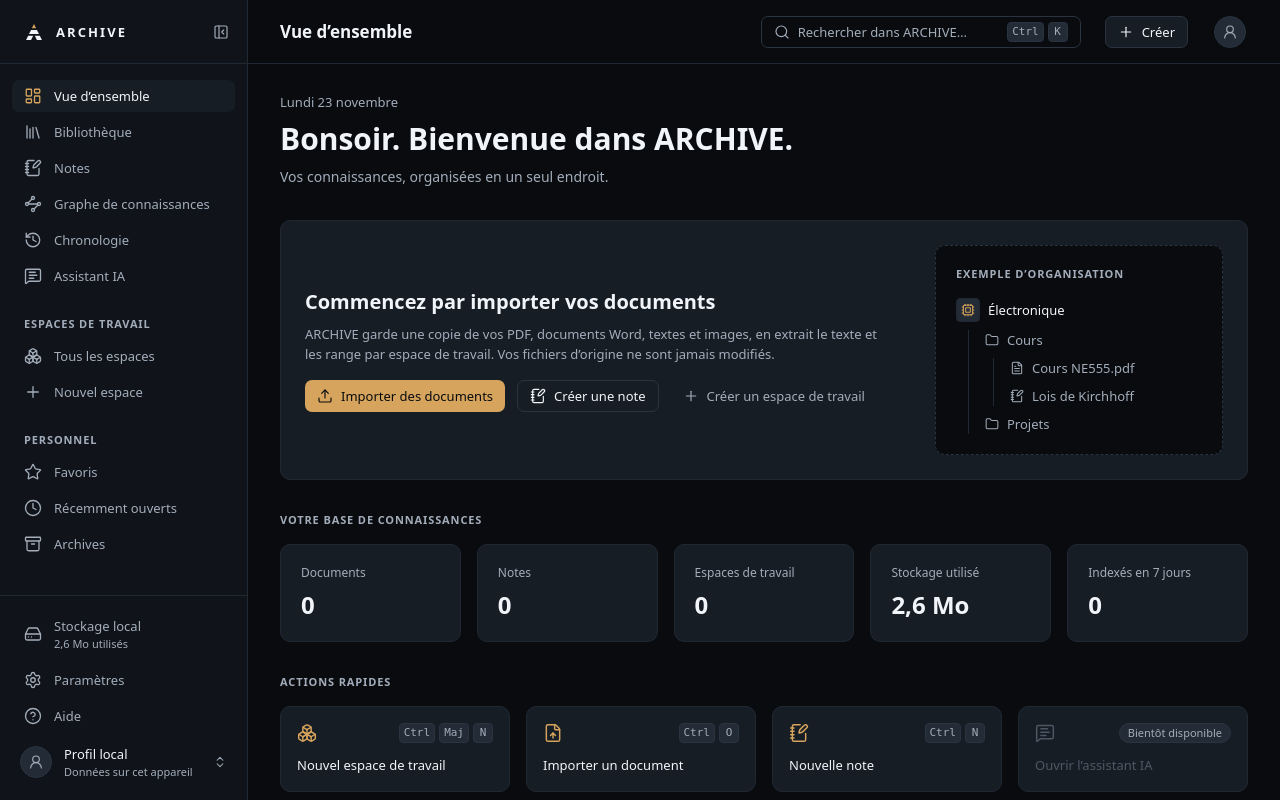
sidebar storage indicator › shows the space really used by ARCHIVE and links to the storage settings
Expected: the text "2,6 Mo utilisés" is shown, [54,636,128,651]
Click the link "Stockage local 2,6 Mo utilisés": [82, 634] box [24,617,141,651]
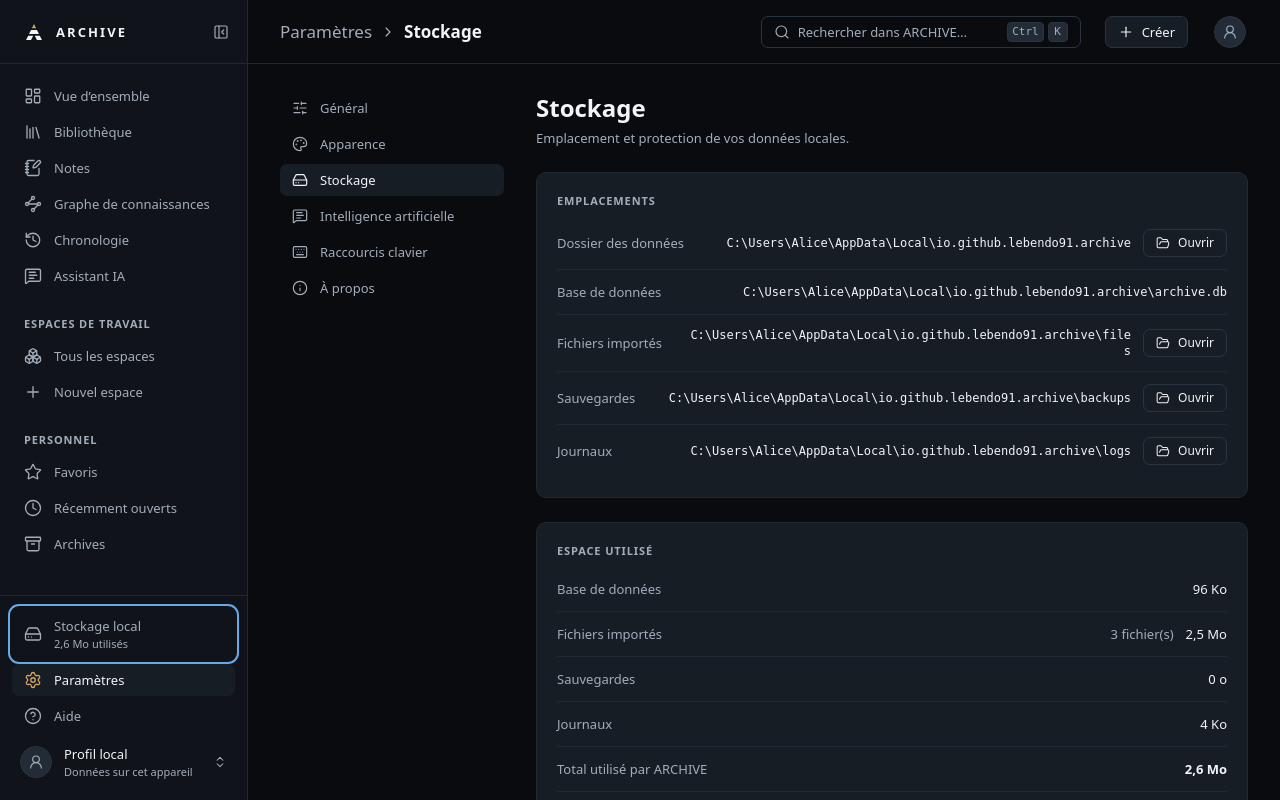
Expected: the 1st heading "Stockage" is shown, [404,18,482,44]
